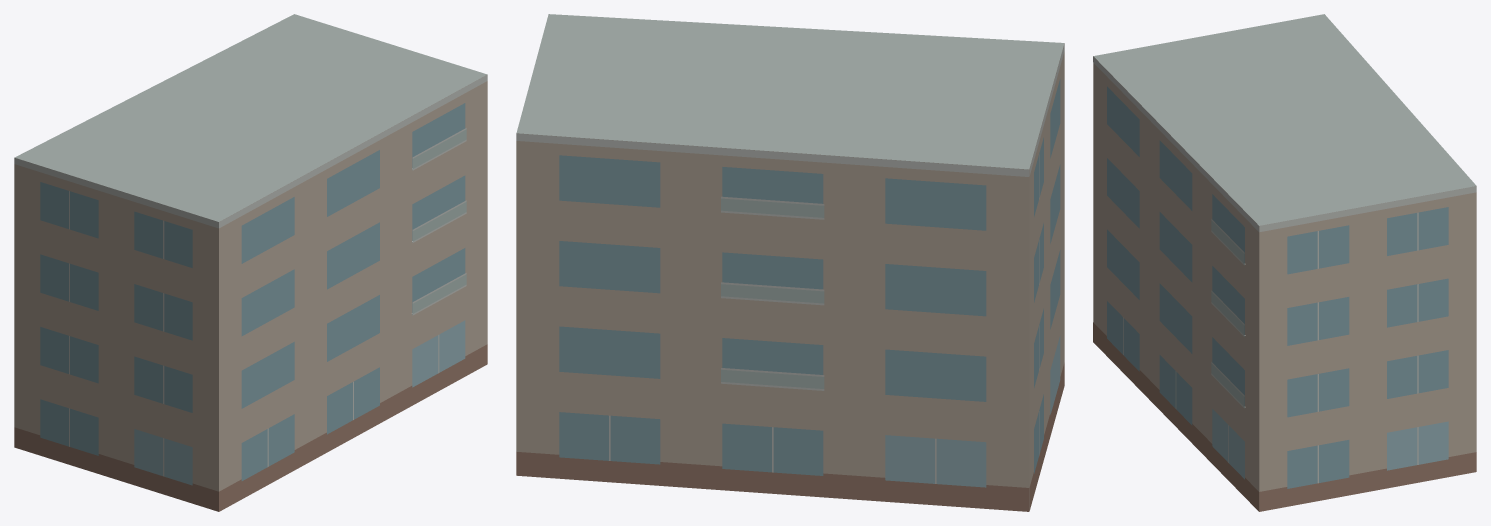
The model's file is survey-upis-32857346.glb.
3 renders of one model, left to right at view 1: azimuth 30°, elevation 25°; view 2: azimuth 150°, elevation 25°; view 3: azimuth 270°, elevation 25°, orthographic. The views are drawn at different scales.
Visible parts, largest first — view 1: survey-upis-32857346.tmp; view 2: survey-upis-32857346.tmp; view 3: survey-upis-32857346.tmp.
Boxes of the visible parts, x1=… form: survey-upis-32857346.tmp: x1=14, y1=14, x2=487, y2=511; survey-upis-32857346.tmp: x1=516, y1=14, x2=1064, y2=511; survey-upis-32857346.tmp: x1=1093, y1=14, x2=1476, y2=511.
Size of the model in its own units: 17.41 by 10.95 by 13.32.
